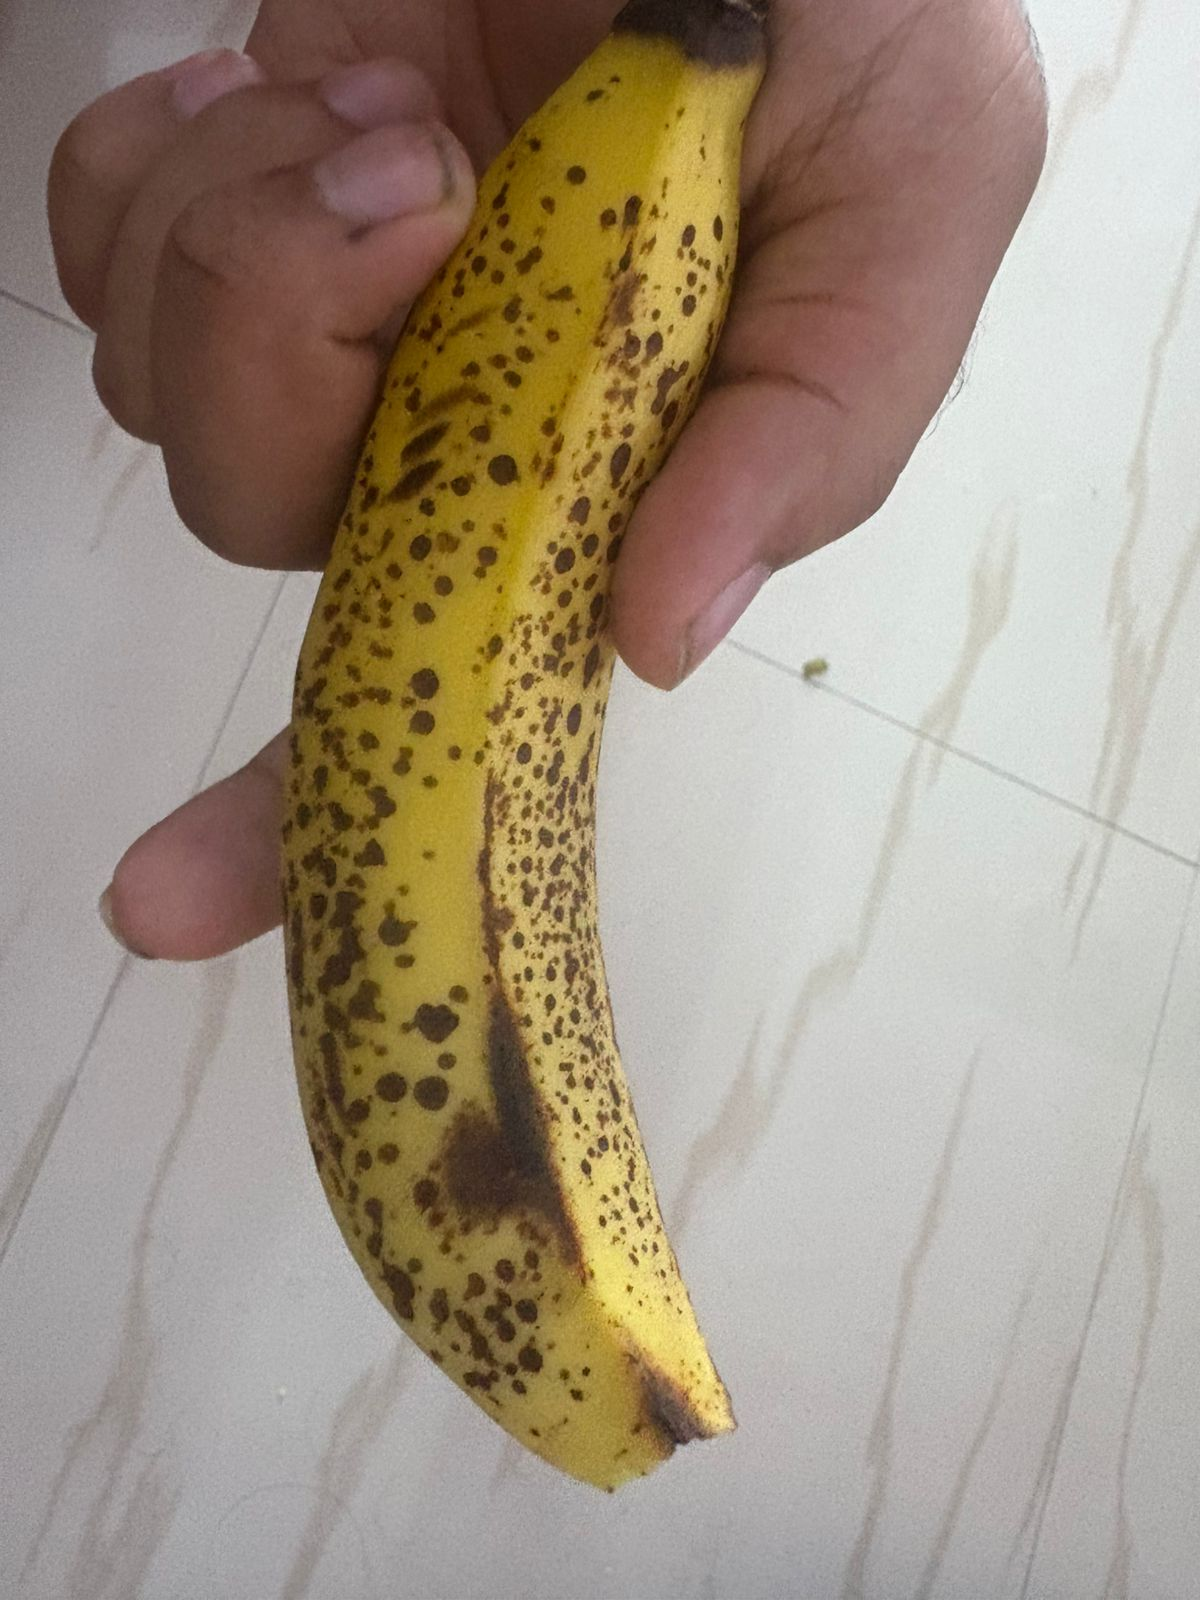wet: (292, 33, 765, 1474)
